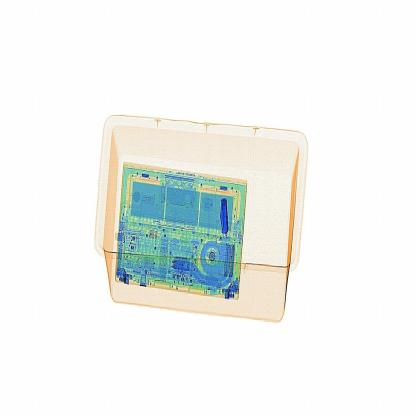knife: (213, 184, 241, 247)
